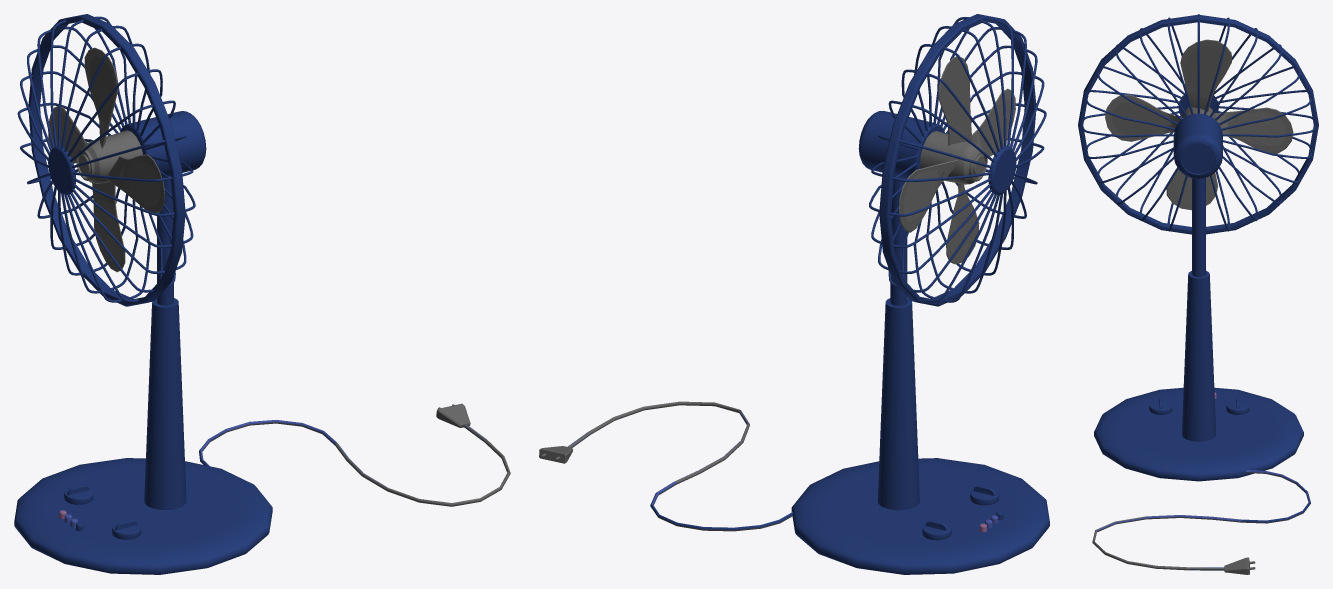
File: fan.fbx
3 renders of one model, left to right at view 1: azimuth 30°, elevation 25°; view 2: azimuth 150°, elevation 25°; view 3: azimuth 270°, elevation 25°, orthographic. The views are drawn at different scales.
Parts seen in each view (by area): view 1: fan; view 2: fan; view 3: fan.
Boxes of the visible parts, x1,y1,x2,y2 form: fan: (14,14,510,574); fan: (539,14,1049,574); fan: (1078,14,1318,574).
Bounding box in the file's own units: 0.0512 × 0.0536 × 0.0286.
